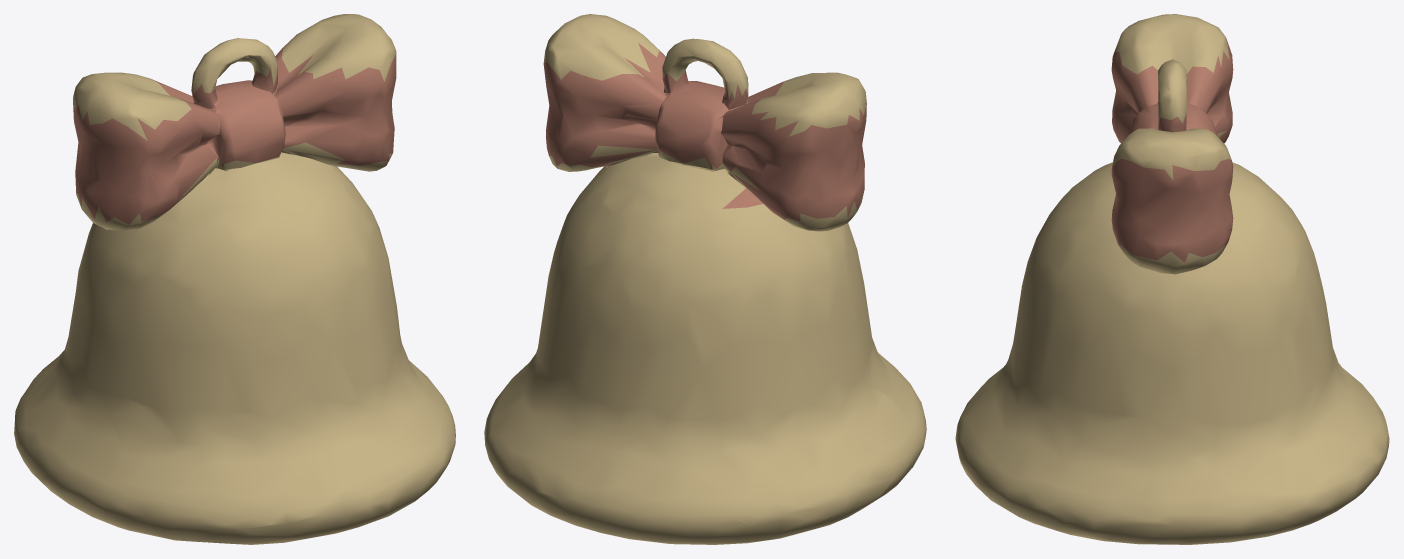
Rendered from bell_01.full.glb.
3 renders of one model, left to right at view 1: azimuth 30°, elevation 25°; view 2: azimuth 150°, elevation 25°; view 3: azimuth 270°, elevation 25°, orthographic. The views are drawn at different scales.
Bounding box in the file's own units: 1.49 × 1.78 × 1.56.
